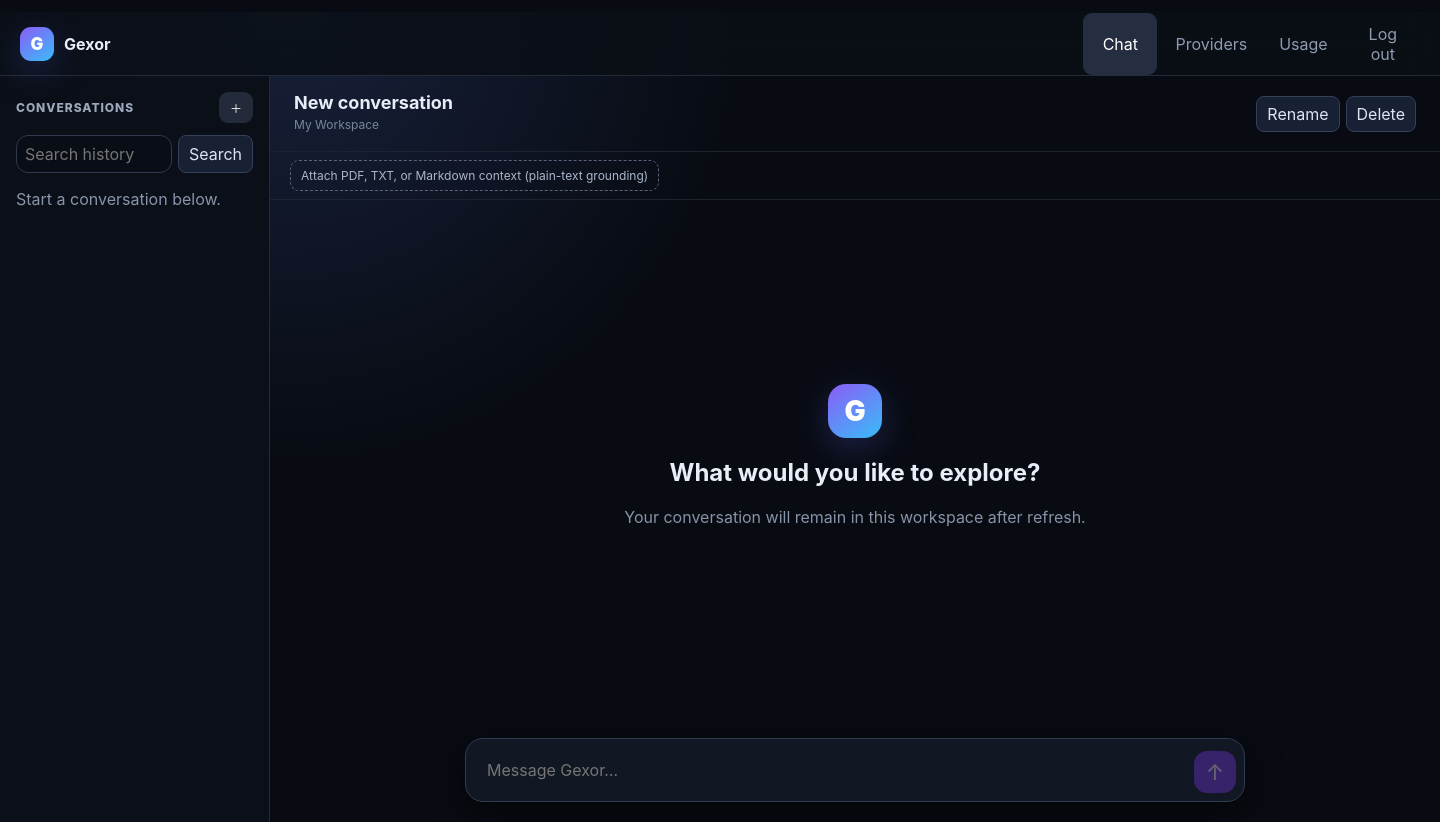
Test: uses canonical cookie-authenticated conversation, execution, and SSE routes
The width and height of the screenshot is (1440, 822).
In the text box with placeholder "Message Gexor…": (829, 770) [474, 747, 1184, 793], type "Hello"
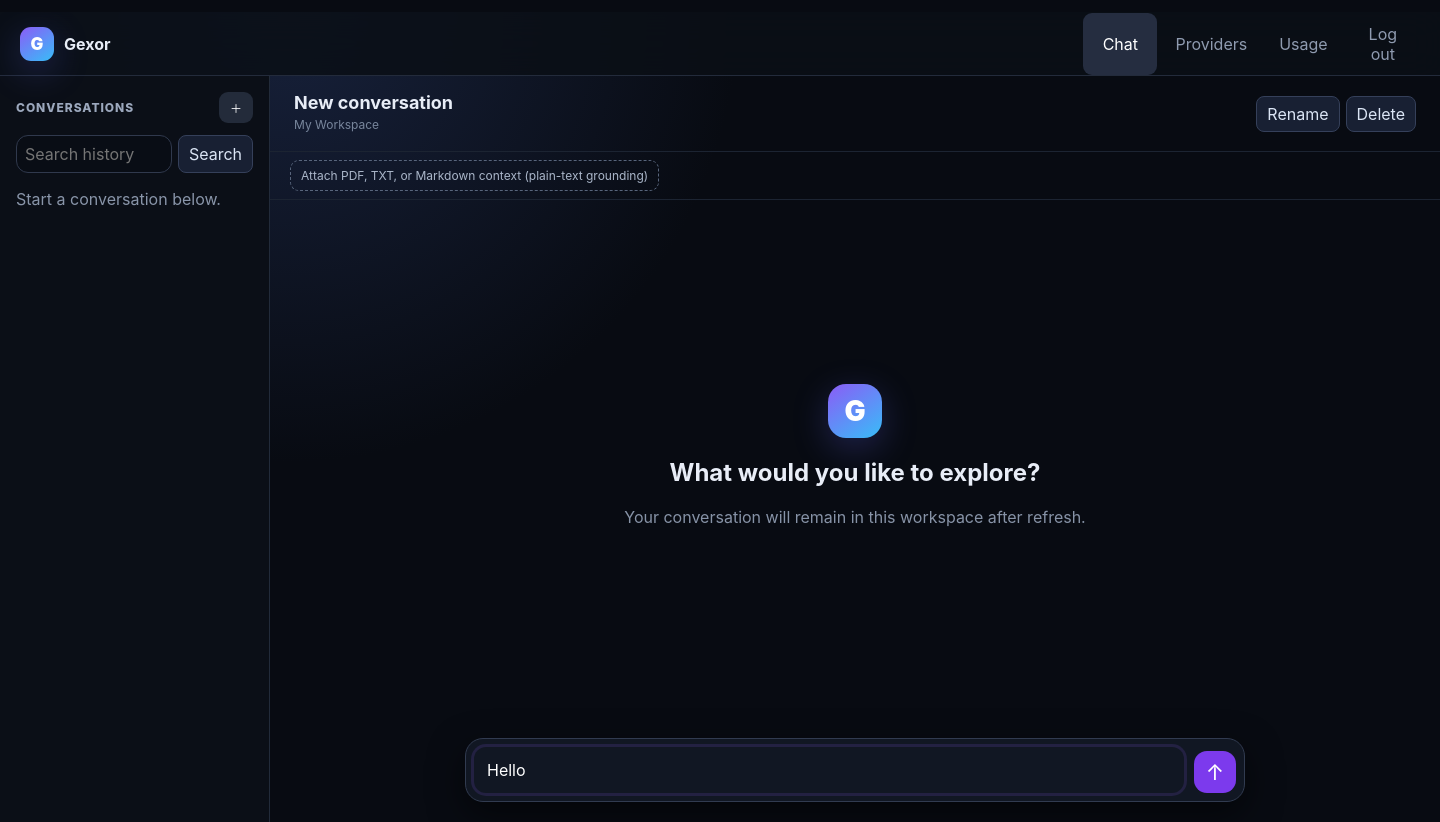
Press Enter
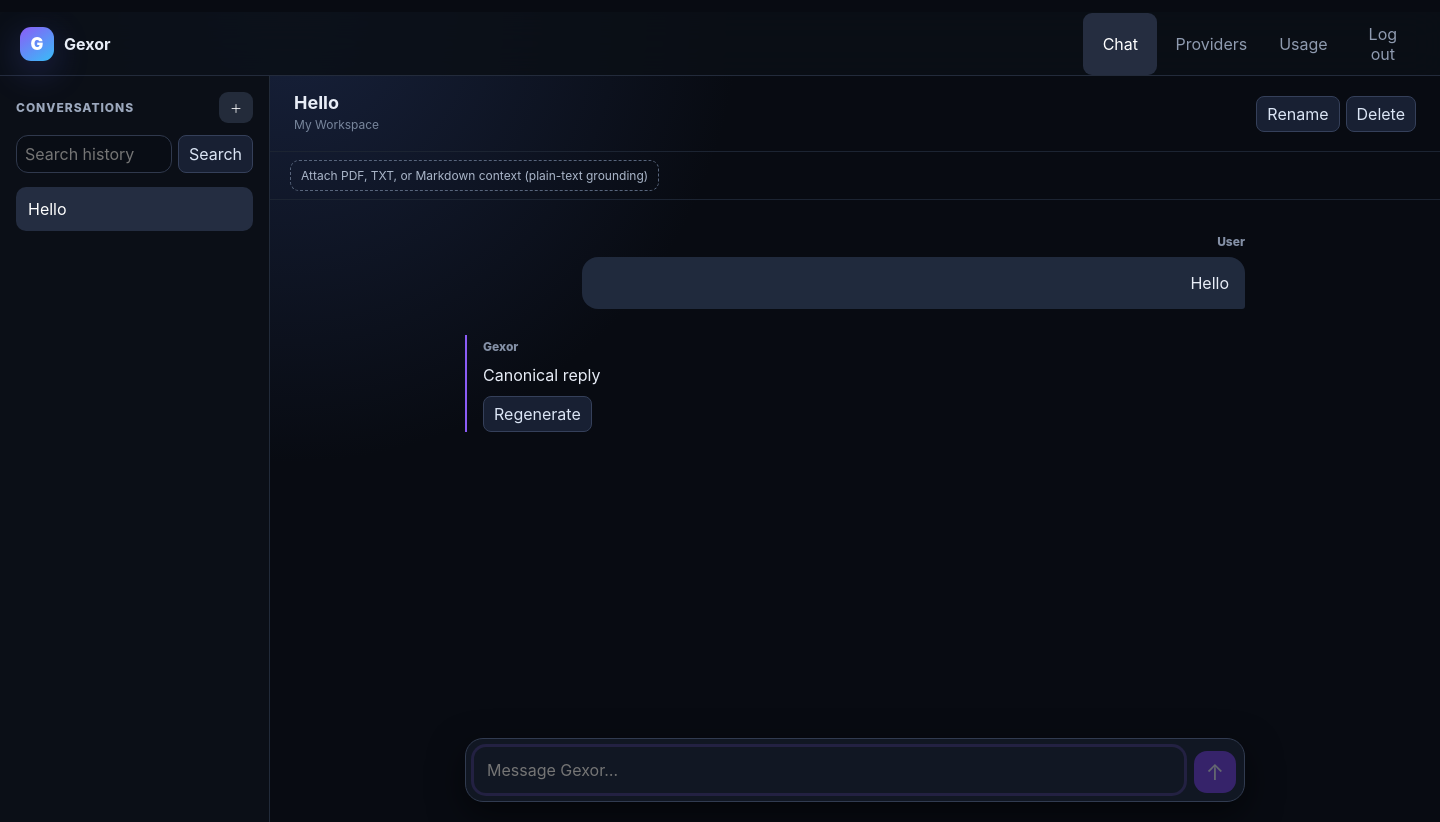
Check: the text "Canonical reply" is shown, box [483, 365, 600, 385]
